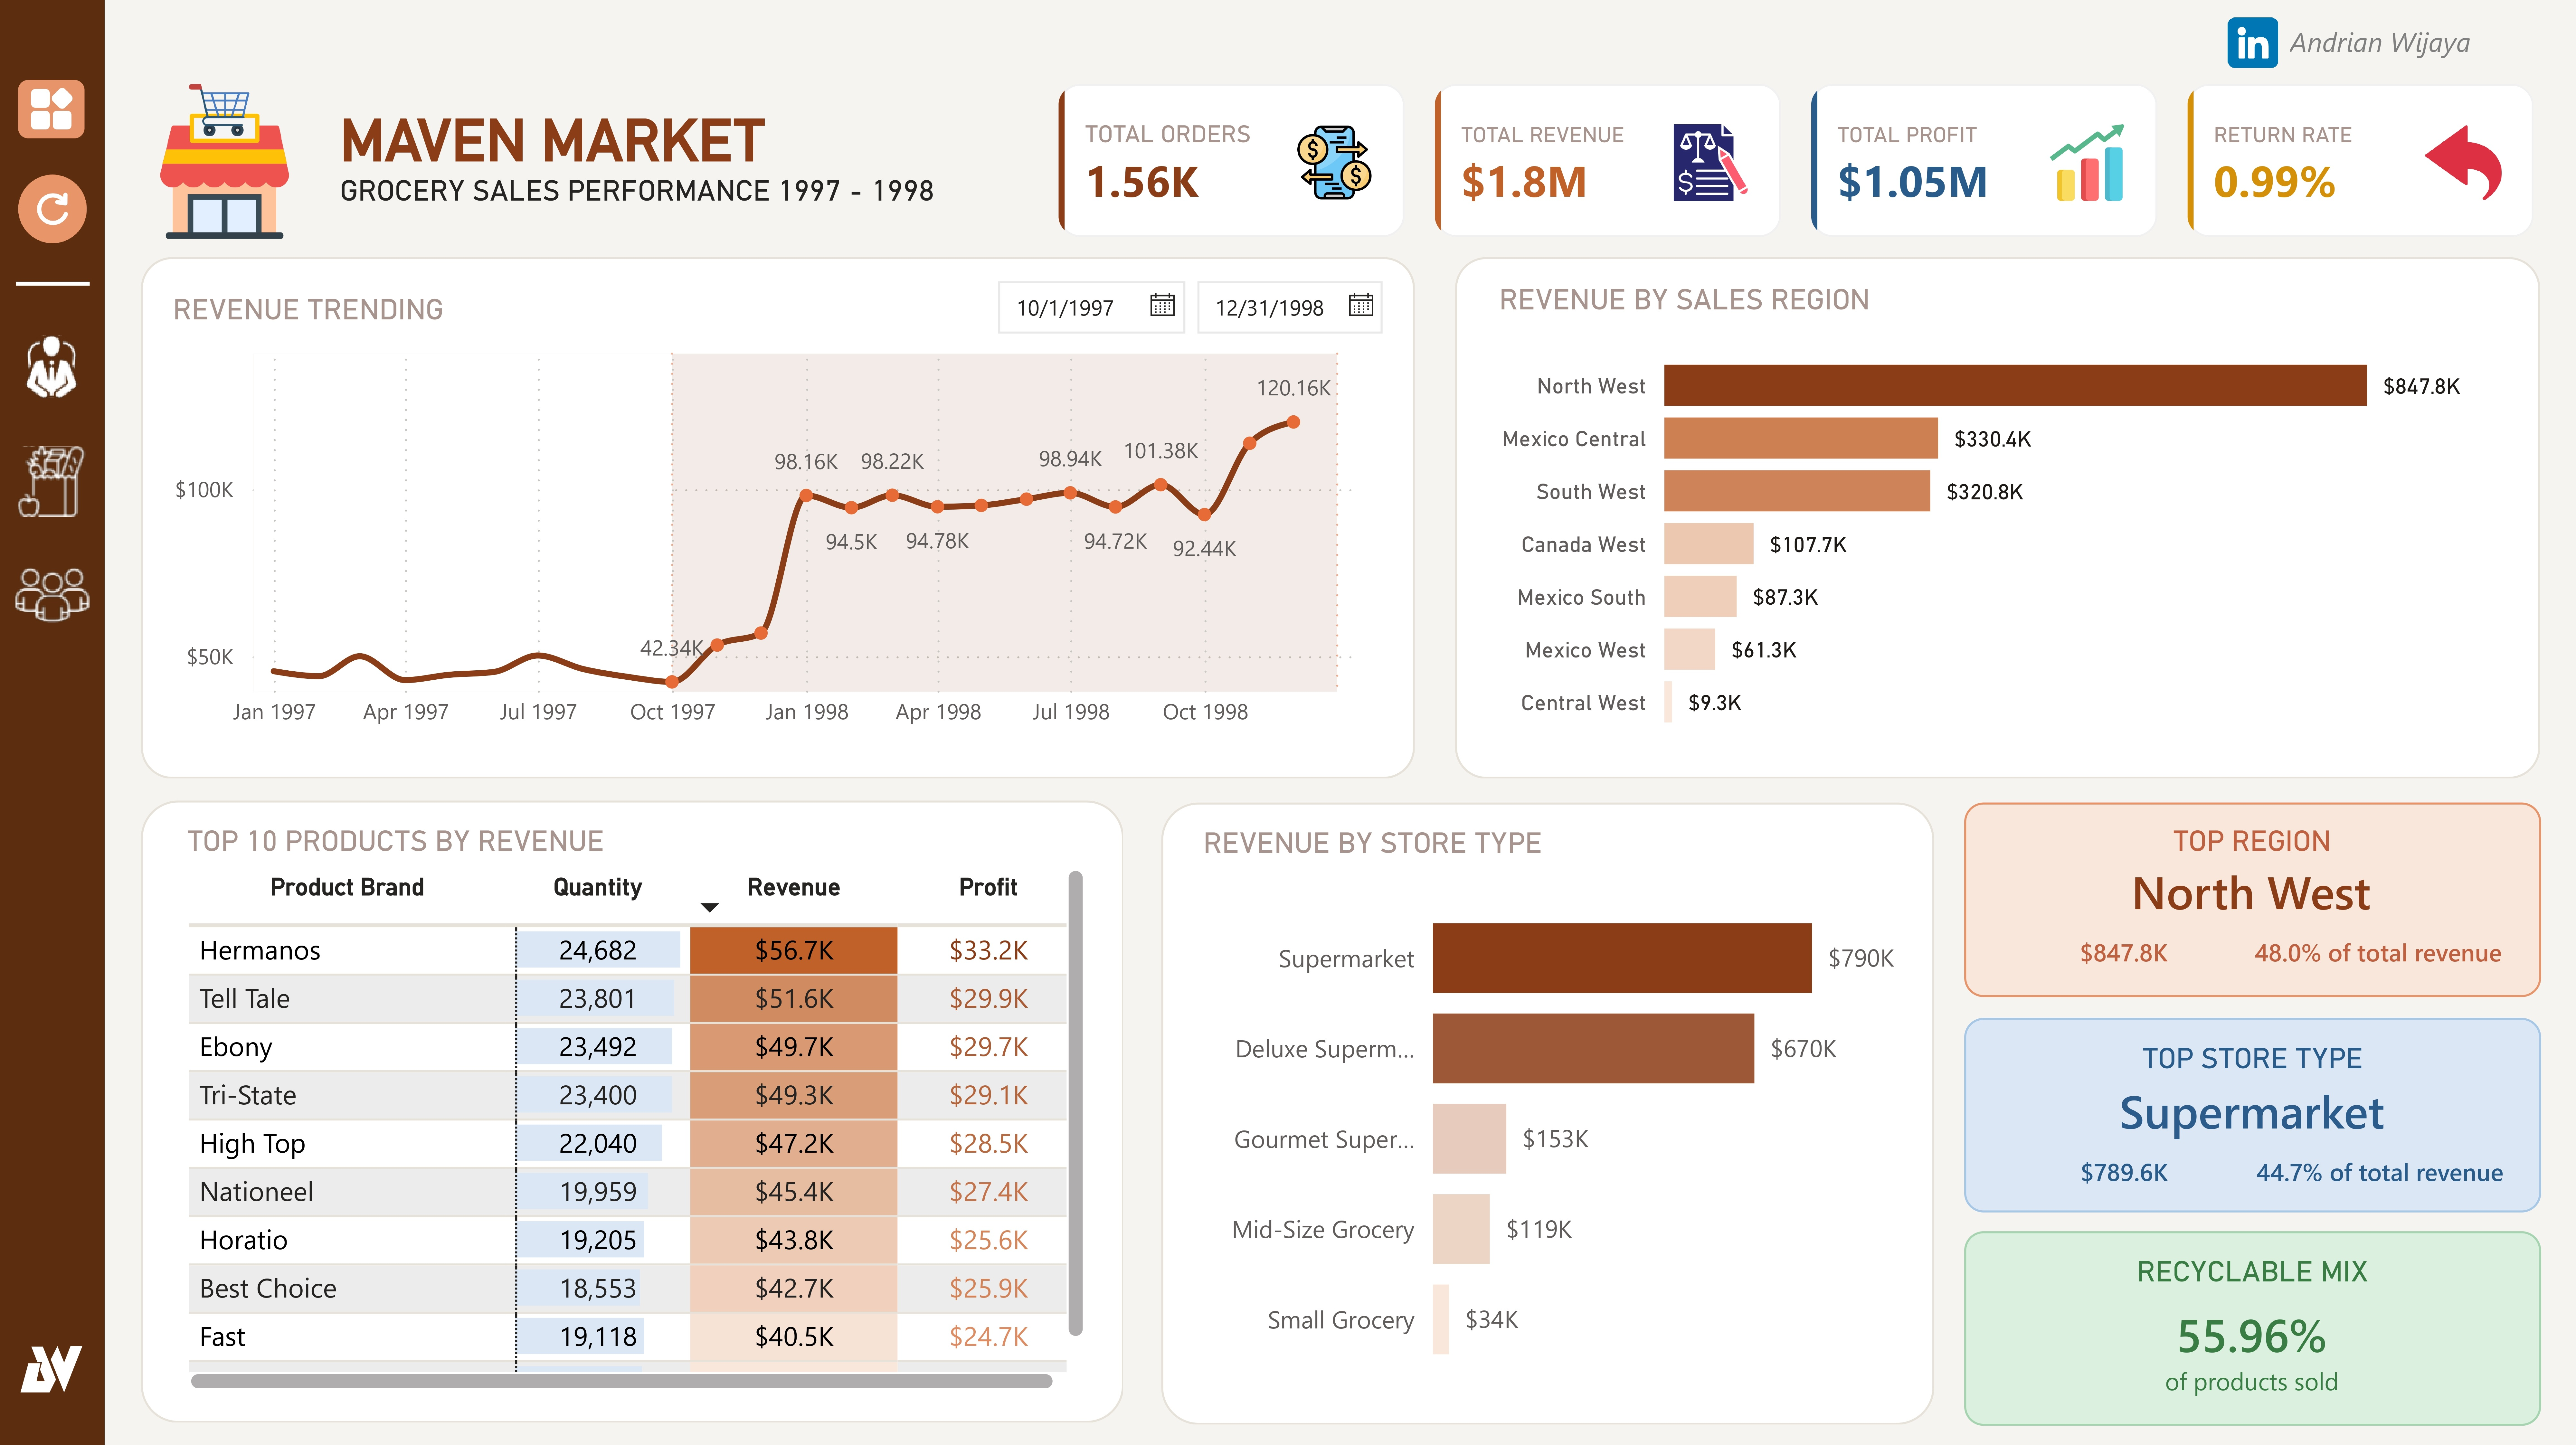

What the dashboard file says about the page in this screenshot:
{"tool":"powerbi","page":{"name":"Exect Dashboard","canvas":[1280,720],"ordinal":0},"visuals":[{"type":"shape","box":[0,0,52.3,720],"z":0,"group":"g9"},{"type":"image","box":[1105.3,8.4,28.3,25],"z":0,"group":"g10"},{"type":"group","id":"g1","title":"Tittle","box":[69.9,42.1,399.3,76.6],"z":0},{"type":"image","box":[69.9,42.1,83.4,76.6],"z":0,"group":"g1"},{"type":"shape","box":[70,127.9,633.1,259.2],"z":0,"group":"g2"},{"type":"shape","box":[723.1,127.9,539.2,259.2],"z":0,"group":"g3"},{"type":"shape","box":[70,397.7,488.5,309.2],"z":0,"group":"g4"},{"type":"shape","box":[576.7,399.2,384.2,309.2],"z":0,"group":"g5"},{"type":"shape","box":[975.8,399.2,286.7,96.7],"z":0,"group":"g6"},{"type":"shape","box":[975.8,505.8,286.7,96.7],"z":0,"group":"g8"},{"type":"shape","box":[975.8,611.7,286.7,96.7],"z":0,"group":"g7"},{"type":"textbox","box":[1133.6,6.7,121.7,28.3],"z":1000,"group":"g10"},{"type":"cardVisual","title":"KPI","fields":{"Data":["Measure Table.Total Orders","Measure Table.Total Revenue","Measure Table.Total Profit","Measure Table.Return Rate"]},"box":[509.2,25.4,770.8,110.8],"z":1000},{"type":"textbox","box":[163.9,48.5,305.4,64.6],"z":1000,"group":"g1"},{"type":"shape","box":[7.7,134.1,36.6,14.5],"z":1000,"group":"g9"},{"type":"clusteredBarChart","title":"REVENUE BY SALES REGION","fields":{"Category":["Regions Lookup.sales_region"],"Y":["Measure Table.Total Revenue"]},"box":[740.5,140.6,503.8,233.7],"z":1000,"group":"g3"},{"type":"lineChart","title":"REVENUE TRENDING","fields":{"Y":["Measure Table.Total Revenue","select"],"Category":["Calendar Lookup.Date Hierarchy.Year","Calendar Lookup.Date Hierarchy.Quarter of Year","Calendar Lookup.Date Hierarchy.Start of Month"]},"box":[81.5,146.2,610.5,224.5],"z":1000,"group":"g2"},{"type":"tableEx","title":"TOP 10 PRODUCTS BY REVENUE","fields":{"Values":["Products Lookup.product_brand","Measure Table.Quantity Sold","Measure Table.Total Revenue","Measure Table.Total Profit"]},"box":[88.5,409.2,456.2,286.2],"z":1000,"group":"g4"},{"type":"cardVisual","title":"TOP REGION","fields":{"Data":["Min(Regions Lookup.sales_region)"]},"box":[985.8,409.7,265.9,83],"z":1000,"group":"g6"},{"type":"barChart","title":"REVENUE BY STORE TYPE","fields":{"Category":["Stores Lookup.store_type"],"Y":["Measure Table.Total Revenue"]},"box":[592.8,410.7,353.3,285.8],"z":1000,"group":"g5"},{"type":"cardVisual","title":"TOP STORE TYPE","fields":{"Data":["Min(Stores Lookup.store_type)"]},"box":[985.9,517.3,266.7,85.3],"z":1000,"group":"g8"},{"type":"cardVisual","title":"RECYCLABLE MIX","fields":{"Data":["Measure Table.Recycable Mix"]},"box":[985.9,624,266.7,77],"z":1000,"group":"g7"},{"type":"image","box":[9.1,39.6,32.8,29],"z":2000,"group":"g9"},{"type":"group","id":"g2","title":"Trendline","box":[70,127.9,633.1,259.2],"z":2000},{"type":"group","id":"g3","title":"Revenue by Region","box":[723.1,127.9,539.2,259.2],"z":3000},{"type":"image","box":[7.6,662.9,35.8,35],"z":3000,"group":"g9"},{"type":"image","box":[8.1,87.2,35.8,34.5],"z":4000,"group":"g9"},{"type":"group","id":"g4","title":"Top 10 Product","box":[70,397.7,488.5,309.2],"z":4000},{"type":"actionButton","title":"Product Page","box":[4.7,216.3,43.3,47.3],"z":4125,"group":"g9"},{"type":"actionButton","title":"Cust Page","box":[3.4,272.5,46,48.7],"z":4250,"group":"g9"},{"type":"actionButton","title":"Exect Page","box":[6.2,160.8,39.3,43.6],"z":4500,"group":"g9"},{"type":"group","id":"g5","title":"Group 1","box":[576.7,399.2,384.2,309.2],"z":5000},{"type":"group","id":"g6","title":"Top Region","box":[975.8,399.2,286.7,96.7],"z":6000},{"type":"group","id":"g7","title":"Recyclable Mix","box":[975.8,611.7,286.7,96.7],"z":7000},{"type":"group","id":"g8","title":"Top Store Type","box":[975.8,505.8,286.7,96.8],"z":8000},{"type":"group","id":"g9","title":"Menu","box":[0,0,52.3,720],"z":9000},{"type":"slicer","fields":{"Values":["Date Slicer.date"]},"box":[483.4,129.8,219,43.9],"z":10000},{"type":"group","id":"g10","title":"Linkedin","box":[1105.3,6.7,150,28.3],"z":11000}]}

Visuals, with their boxes in screenshot pixels (x1, y1, x2, y2), scaled from the page's 1280x720 canvas onto the 2576x1445 screenshot:
shape: (x1=0, y1=0, x2=105, y2=1445)
image: (x1=2224, y1=17, x2=2281, y2=67)
"Tittle" group: (x1=141, y1=84, x2=944, y2=238)
image: (x1=141, y1=84, x2=308, y2=238)
shape: (x1=141, y1=257, x2=1415, y2=777)
shape: (x1=1455, y1=257, x2=2540, y2=777)
shape: (x1=141, y1=798, x2=1124, y2=1419)
shape: (x1=1160, y1=801, x2=1934, y2=1422)
shape: (x1=1964, y1=801, x2=2541, y2=995)
shape: (x1=1964, y1=1015, x2=2541, y2=1209)
shape: (x1=1964, y1=1228, x2=2541, y2=1422)
textbox: (x1=2281, y1=14, x2=2526, y2=70)
"KPI" cardVisual: (x1=1025, y1=51, x2=2576, y2=273)
textbox: (x1=330, y1=97, x2=944, y2=227)
shape: (x1=15, y1=269, x2=89, y2=298)
"REVENUE BY SALES REGION" clusteredBarChart: (x1=1490, y1=282, x2=2504, y2=751)
"REVENUE TRENDING" lineChart: (x1=164, y1=293, x2=1393, y2=744)
"TOP 10 PRODUCTS BY REVENUE" tableEx: (x1=178, y1=821, x2=1096, y2=1396)
"TOP REGION" cardVisual: (x1=1984, y1=822, x2=2519, y2=989)
"REVENUE BY STORE TYPE" barChart: (x1=1193, y1=824, x2=1904, y2=1398)
"TOP STORE TYPE" cardVisual: (x1=1984, y1=1038, x2=2521, y2=1209)
"RECYCLABLE MIX" cardVisual: (x1=1984, y1=1252, x2=2521, y2=1407)
image: (x1=18, y1=80, x2=84, y2=138)
"Trendline" group: (x1=141, y1=257, x2=1415, y2=777)
"Revenue by Region" group: (x1=1455, y1=257, x2=2540, y2=777)
image: (x1=15, y1=1330, x2=87, y2=1401)
image: (x1=16, y1=175, x2=88, y2=244)
"Top 10 Product" group: (x1=141, y1=798, x2=1124, y2=1419)
"Product Page" actionButton: (x1=9, y1=434, x2=97, y2=529)
"Cust Page" actionButton: (x1=7, y1=547, x2=99, y2=645)
"Exect Page" actionButton: (x1=13, y1=323, x2=91, y2=410)
"Group 1" group: (x1=1160, y1=801, x2=1934, y2=1422)
"Top Region" group: (x1=1964, y1=801, x2=2541, y2=995)
"Recyclable Mix" group: (x1=1964, y1=1228, x2=2541, y2=1422)
"Top Store Type" group: (x1=1964, y1=1015, x2=2541, y2=1209)
"Menu" group: (x1=0, y1=0, x2=105, y2=1445)
slicer - Date Slicer.date: (x1=973, y1=260, x2=1414, y2=349)
"Linkedin" group: (x1=2224, y1=14, x2=2526, y2=70)
